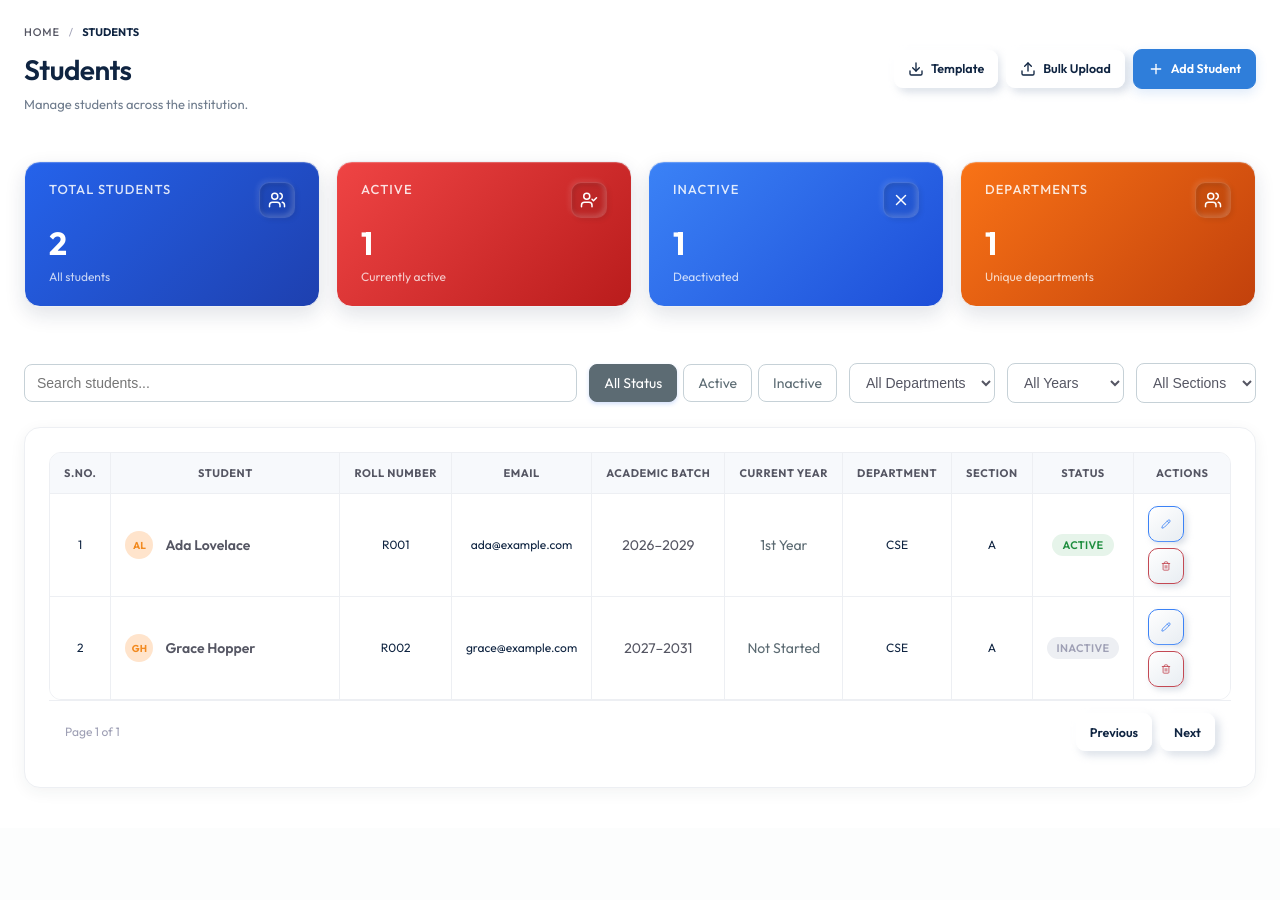
Test: surfaces an API error and leaves the row unchanged
The image size is (1280, 900).
Expected: the text "Grace Hopper" is shown, [165, 639, 255, 657]
Step 1. Click the button with aria-label "Activate Grace Hopper" → (1083, 648), box [1047, 637, 1119, 659]
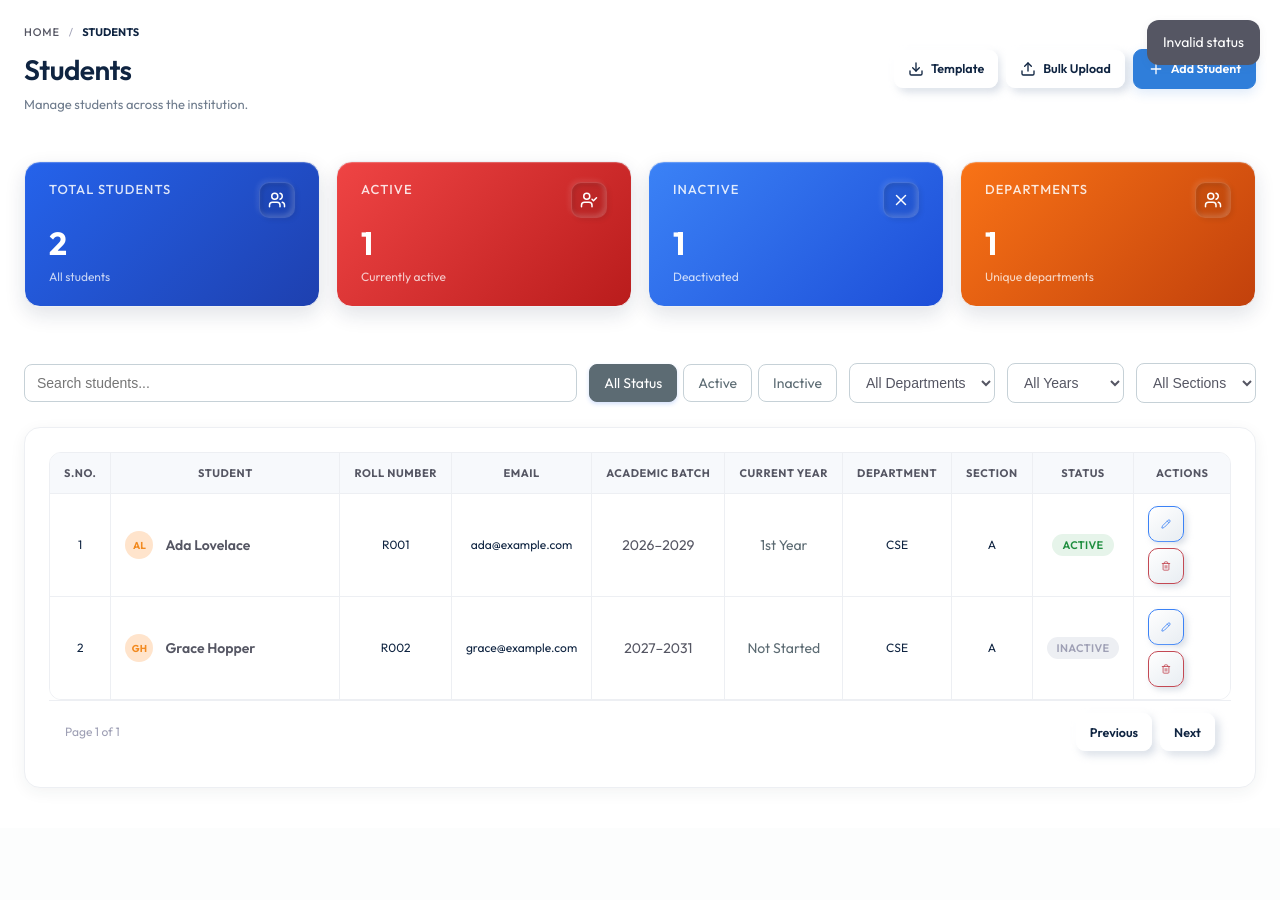
Now the text "Invalid status" is shown, box [1147, 20, 1260, 65]
